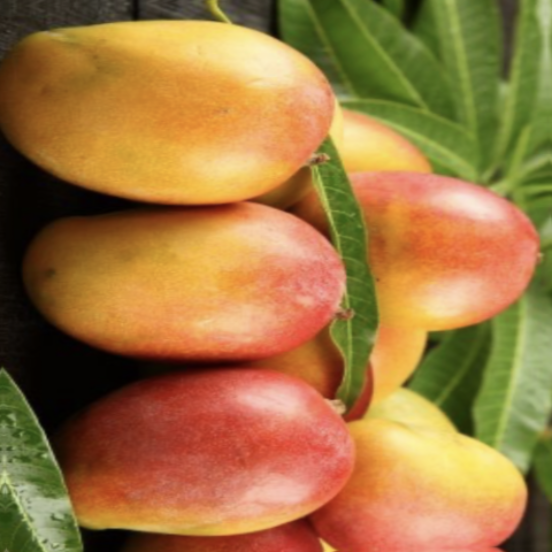mango: (0, 9, 365, 219), (21, 353, 391, 552), (16, 193, 342, 383), (295, 154, 552, 353)
